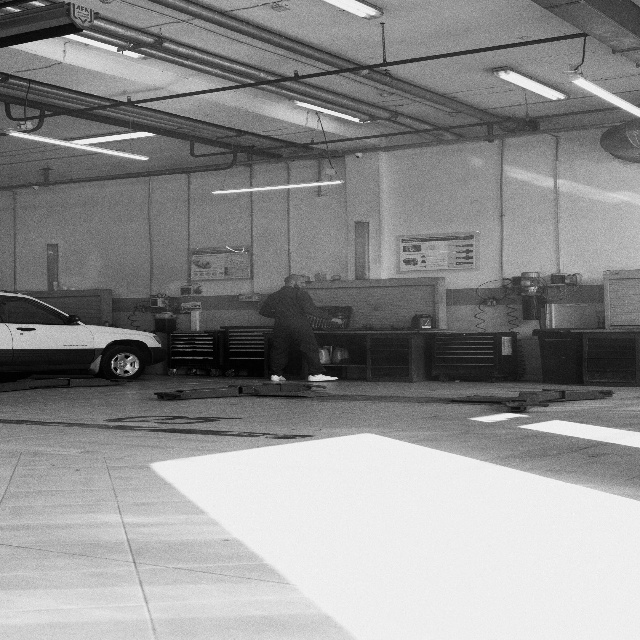Sin_guantes: (331, 317, 342, 324)
